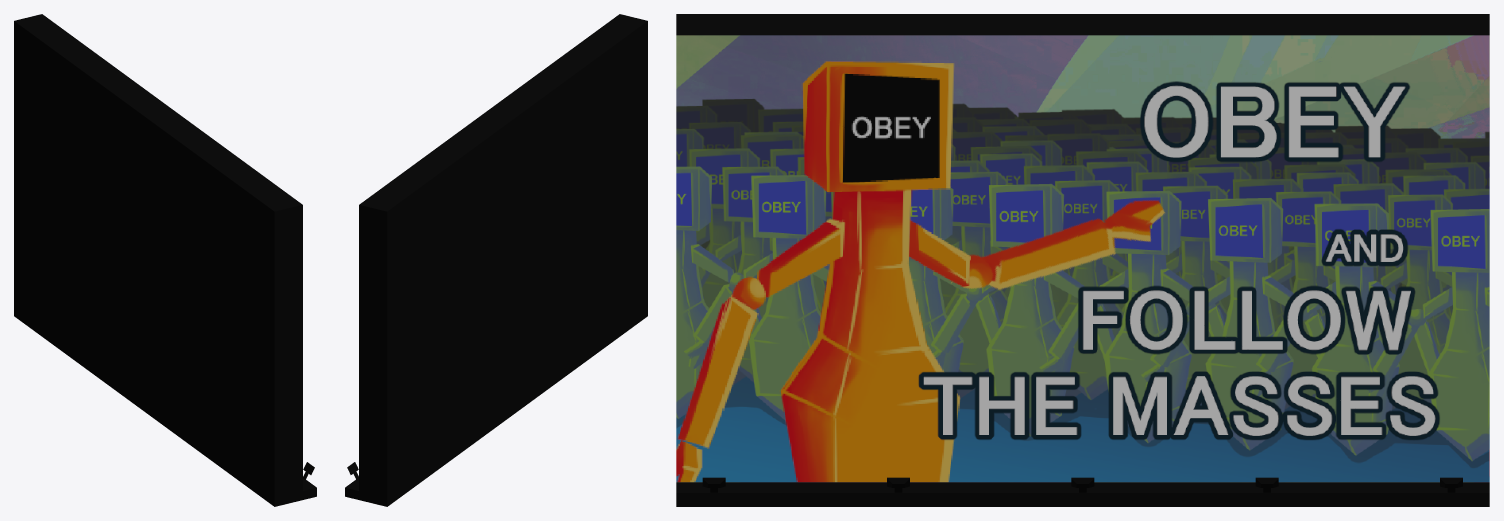
Rendered from Billboard3.1.FBX.
3 renders of one model, left to right at view 1: azimuth 30°, elevation 25°; view 2: azimuth 150°, elevation 25°; view 3: azimuth 270°, elevation 25°, orthographic. The views are drawn at different scales.
Visible parts, largest first — view 1: Billboard3; view 2: Billboard3; view 3: Billboard3.
Part boxes in pixels (bbox=[...]): Billboard3: bbox=[14, 14, 316, 506]; Billboard3: bbox=[345, 14, 647, 506]; Billboard3: bbox=[676, 14, 1489, 506].
Bounding box in the file's own units: 139 × 788 × 1260.
